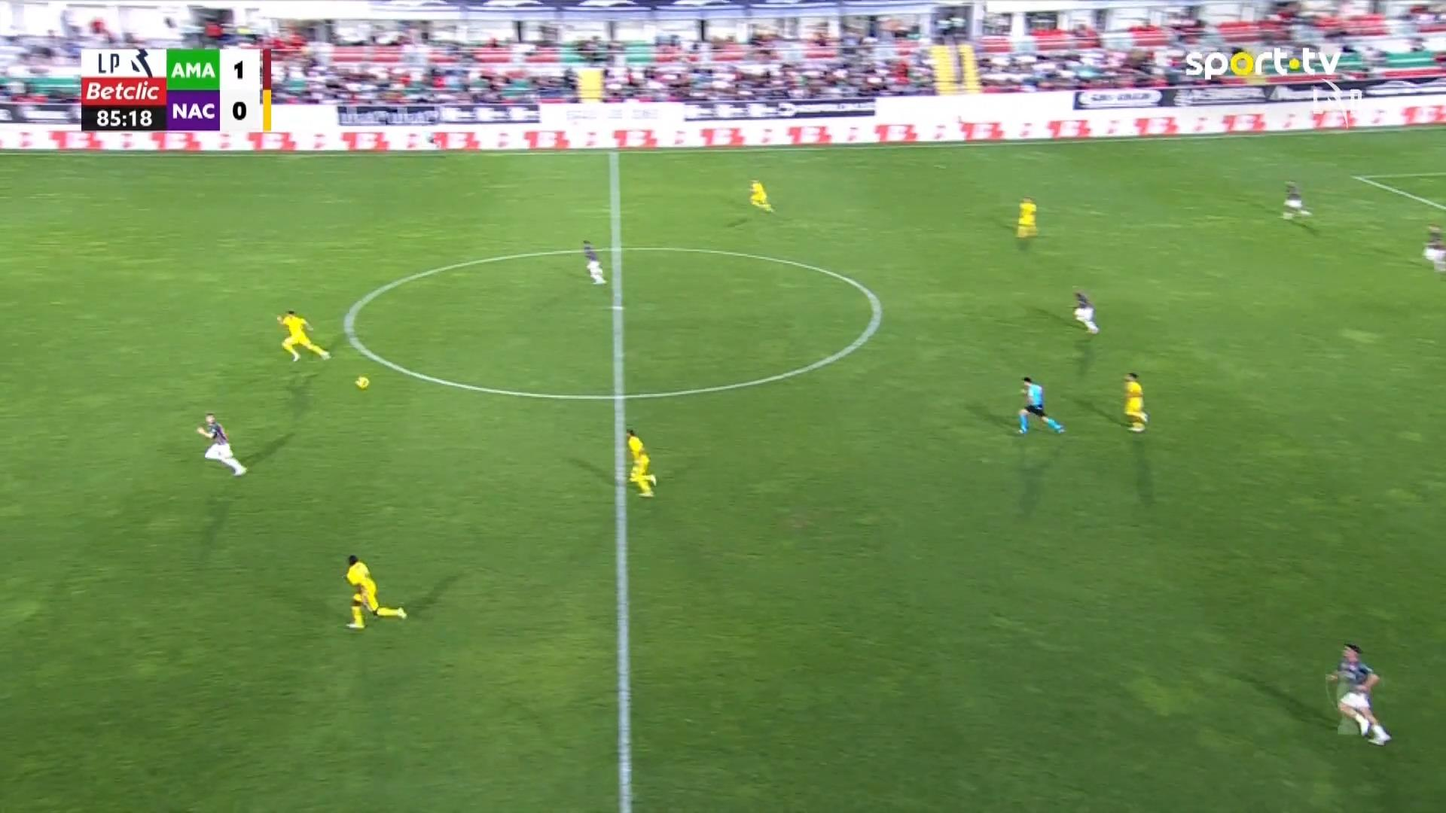ball: (354, 376, 369, 389)
player: (1324, 641, 1392, 745), (343, 553, 407, 629), (195, 412, 246, 477), (276, 309, 331, 362), (624, 428, 657, 498), (1121, 371, 1148, 432), (1071, 288, 1099, 334), (1281, 180, 1312, 218), (581, 239, 606, 285), (1421, 223, 1444, 272), (1015, 196, 1038, 239), (748, 178, 774, 213)
referee: (1016, 375, 1065, 434)
